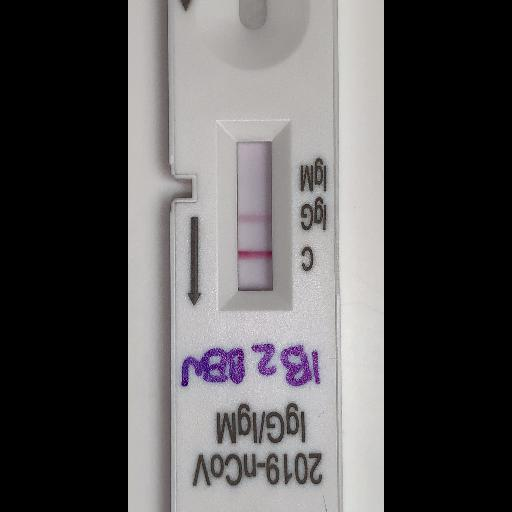Pos: (169, 0, 344, 511)
